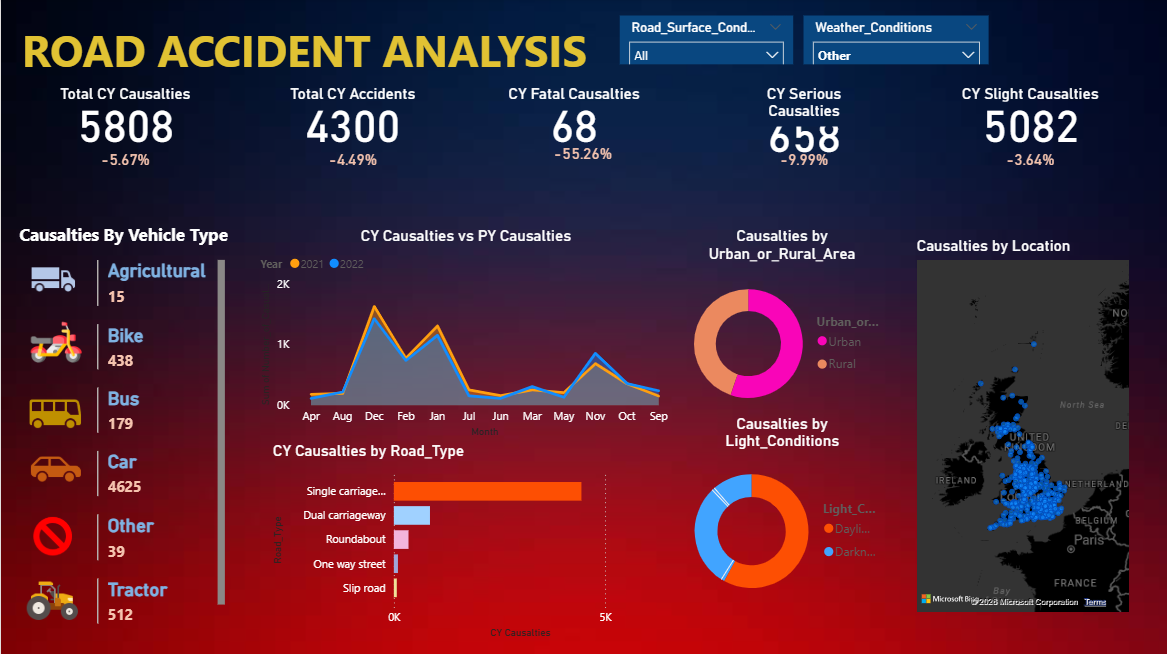

The page's visual inventory and layout, read from the dashboard file:
{"tool":"powerbi","page":{"name":"Page 1","canvas":[1280,720],"ordinal":0},"visuals":[{"type":"group","id":"g1","title":"Group 1","box":[43.9,94.7,185.2,112.5],"z":0},{"type":"card","title":"Total CY Causalties","fields":{"Values":["Data.CY Causalties"]},"box":[43.9,94.7,185.2,83.7],"z":0,"group":"g1"},{"type":"card","title":"Total CY Accidents","fields":{"Values":["Data.CY Accidents Count"]},"box":[293.7,94.7,185.2,83.7],"z":0,"group":"g2"},{"type":"card","title":"CY Fatal Causalties","fields":{"Values":["Data.CY Causalties"]},"box":[536.5,94.7,185.2,83.7],"z":0,"group":"g3"},{"type":"card","title":"CY Serious Causalties","fields":{"Values":["Data.CY Causalties"]},"box":[789,94.7,185.2,83.7],"z":0,"group":"g4"},{"type":"card","title":"CY Slight Causalties","fields":{"Values":["Data.CY Causalties"]},"box":[1037.4,94.7,185.2,83.7],"z":0,"group":"g5"},{"type":"group","id":"g2","title":"Group 1","box":[293.7,94.7,185.2,112.5],"z":1000},{"type":"card","fields":{"Values":["Data.YoY Causalties"]},"box":[581.5,143.1,113.9,57.6],"z":1000,"group":"g3"},{"type":"card","fields":{"Values":["Data.YoY Causalties"]},"box":[79.6,149.6,113.9,57.6],"z":1000,"group":"g1"},{"type":"card","fields":{"Values":["Data.YoY Accidents"]},"box":[329.4,149.6,113.9,57.6],"z":1000,"group":"g2"},{"type":"card","fields":{"Values":["Data.YoY Causalties"]},"box":[824.7,149.6,113.9,57.6],"z":1000,"group":"g4"},{"type":"card","fields":{"Values":["Data.YoY Causalties"]},"box":[1073.1,149.6,113.9,57.6],"z":1000,"group":"g5"},{"type":"group","id":"g3","title":"Group 1","box":[536.5,94.7,185.2,105.7],"z":2000},{"type":"group","id":"g4","title":"Group 1","box":[789,94.7,185.2,112.5],"z":3000},{"type":"group","id":"g5","title":"Group 1","box":[1037.4,94.7,185.2,112.5],"z":4000},{"type":"textbox","box":[17.8,19.2,703.9,75.5],"z":5000},{"type":"multiRowCard","fields":{"Values":["Data.Vehicle_Type (groups)","Data.CY Causalties"]},"box":[100.2,282.7,150.9,408.9],"z":6000},{"type":"image","box":[0,425.4,119.4,61.7],"z":7000},{"type":"image","box":[20.6,349.9,79.6,56.3],"z":8000},{"type":"image","box":[20.6,487.1,79.6,60.4],"z":9000},{"type":"image","box":[22,564,70,53.5],"z":10000},{"type":"image","box":[15.1,631.2,82.3,60.4],"z":11000},{"type":"image","box":[17.8,282.7,79.6,52.1],"z":12000},{"type":"textbox","box":[15.1,241.5,299.1,41.2],"z":13000},{"type":"areaChart","title":"CY Causalties vs PY Causalties","fields":{"Category":["Calendar.Month"],"Y":["Sum(Data.Number_of_Casualties)"],"Series":["Calendar.Date.Variation.Date Hierarchy.Year"]},"box":[279.9,251.1,461.1,236],"z":14000},{"type":"donutChart","title":"Causalties by Urban_or_Rural_Area","fields":{"Category":["Data.Urban_or_Rural_Area"],"Y":["Data.CY Causalties"]},"box":[741,251.1,233.3,215.4],"z":15000},{"type":"donutChart","title":"Causalties by Light_Conditions ","fields":{"Y":["Data.CY Causalties"],"Series":["Data.Light_Conditions"],"Category":["Data.Light_Conditions (groups)"]},"box":[741,456.9,233.3,215.4],"z":16000},{"type":"barChart","fields":{"Category":["Data.Road_Type"],"Y":["Data.CY Causalties"]},"box":[293.7,487.1,428.1,220.9],"z":17000},{"type":"map","title":"Causalties by Location","fields":{"Y":["Data.Latitude"],"X":["Data.Longitude"],"Category":["Data.Local_Authority_(District)"]},"box":[1000.3,262.1,242.9,417.2],"z":18000},{"type":"slicer","fields":{"Values":["Data.Weather_Conditions"]},"box":[881.1,18.9,203.3,53.3],"z":19000},{"type":"slicer","fields":{"Values":["Data.Road_Surface_Conditions"]},"box":[678.9,18.9,190,53.3],"z":20000}]}

Visuals, with their boxes in screenshot pixels (x1, y1, x2, y2), scaled from the page's 1280x720 canvas onto the 1167x654 screenshot:
"Group 1" group: x1=40 y1=86 x2=209 y2=188
"Total CY Causalties" card: x1=40 y1=86 x2=209 y2=162
"Total CY Accidents" card: x1=268 y1=86 x2=437 y2=162
"CY Fatal Causalties" card: x1=489 y1=86 x2=658 y2=162
"CY Serious Causalties" card: x1=719 y1=86 x2=888 y2=162
"CY Slight Causalties" card: x1=946 y1=86 x2=1115 y2=162
"Group 1" group: x1=268 y1=86 x2=437 y2=188
card - Data.YoY Causalties: x1=530 y1=130 x2=634 y2=182
card - Data.YoY Causalties: x1=73 y1=136 x2=176 y2=188
card - Data.YoY Accidents: x1=300 y1=136 x2=404 y2=188
card - Data.YoY Causalties: x1=752 y1=136 x2=856 y2=188
card - Data.YoY Causalties: x1=978 y1=136 x2=1082 y2=188
"Group 1" group: x1=489 y1=86 x2=658 y2=182
"Group 1" group: x1=719 y1=86 x2=888 y2=188
"Group 1" group: x1=946 y1=86 x2=1115 y2=188
textbox: x1=16 y1=17 x2=658 y2=86
multiRowCard - Data.Vehicle_Type (groups) x Data.CY Causalties: x1=91 y1=257 x2=229 y2=628
image: x1=0 y1=386 x2=109 y2=442
image: x1=19 y1=318 x2=91 y2=369
image: x1=19 y1=442 x2=91 y2=497
image: x1=20 y1=512 x2=84 y2=561
image: x1=14 y1=573 x2=89 y2=628
image: x1=16 y1=257 x2=89 y2=304
textbox: x1=14 y1=219 x2=286 y2=257
"CY Causalties vs PY Causalties" areaChart: x1=255 y1=228 x2=676 y2=442
"Causalties by Urban_or_Rural_Area" donutChart: x1=676 y1=228 x2=888 y2=424
"Causalties by Light_Conditions " donutChart: x1=676 y1=415 x2=888 y2=611
barChart - Data.Road_Type x Data.CY Causalties: x1=268 y1=442 x2=658 y2=643
"Causalties by Location" map: x1=912 y1=238 x2=1133 y2=617
slicer - Data.Weather_Conditions: x1=803 y1=17 x2=989 y2=66
slicer - Data.Road_Surface_Conditions: x1=619 y1=17 x2=792 y2=66
